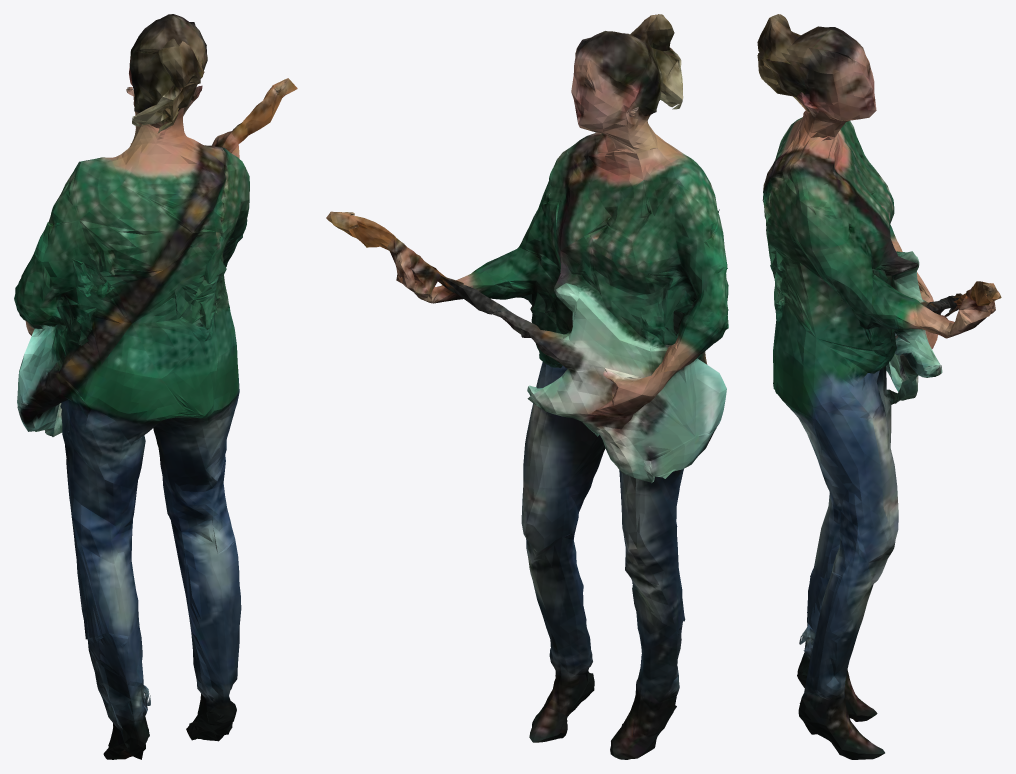
The picture shows the model from 3 angles, left to right: view 1: azimuth 30°, elevation 25°; view 2: azimuth 150°, elevation 25°; view 3: azimuth 270°, elevation 25°; orthographic projection. The views are drawn at different scales.
Parts seen in each view (by area): view 1: dec_0008; view 2: dec_0008; view 3: dec_0008.
Boxes of the visible parts, <box> form: dec_0008: <box>14,14,297,759</box>; dec_0008: <box>326,14,728,759</box>; dec_0008: <box>757,14,1001,759</box>.
Size of the model in its own units: 0.8353 by 1.71 by 0.534.
Materials: 1 (1 with a texture image).
